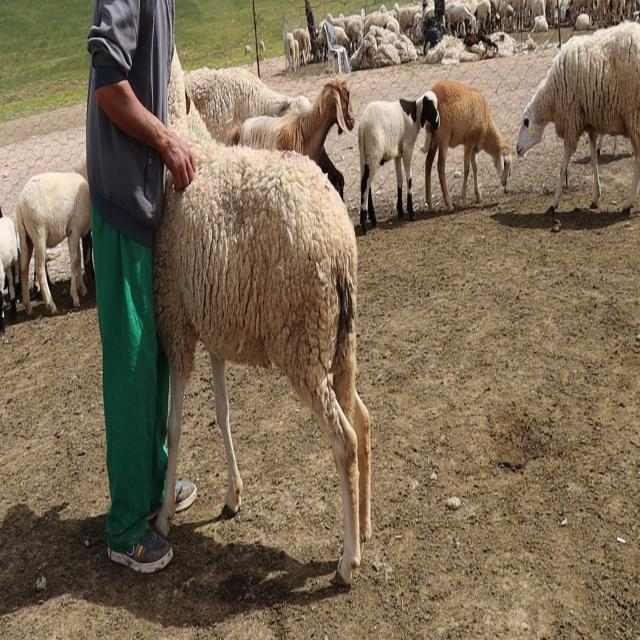Score_1: (153, 51, 371, 584)
